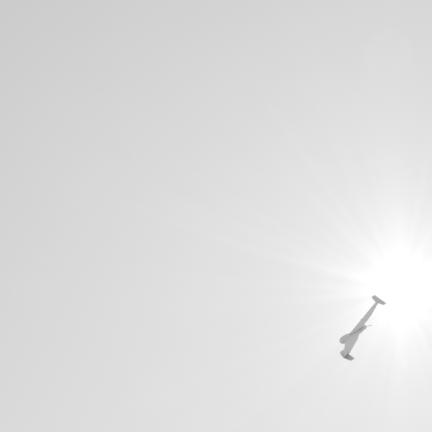Shahed: (340, 296, 385, 360)
